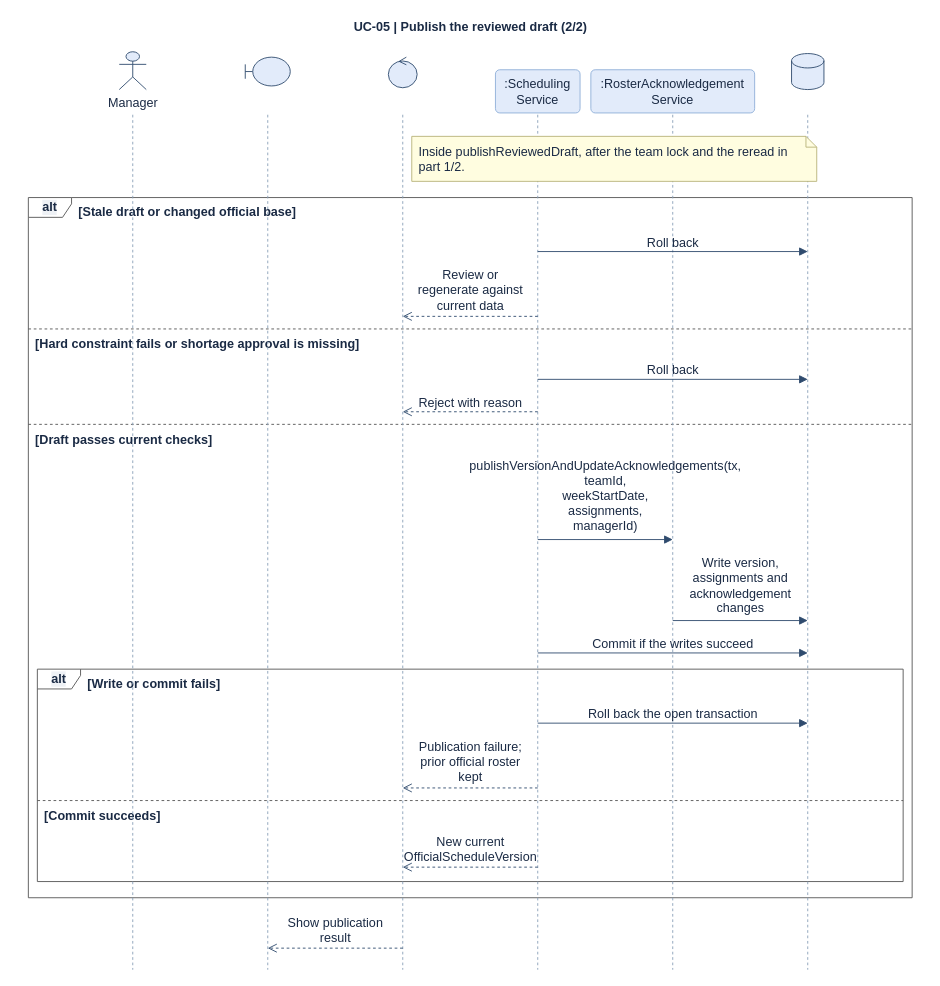
Image size: 940x986. Some labels were removed from this diagram. Here are the shapes that lost their labels. From the top down, the centre of each, then its label:
(x=267, y=71): Weekly Scheduling S-04
(x=402, y=72): Express API
(x=807, y=71): PostgreSQL
